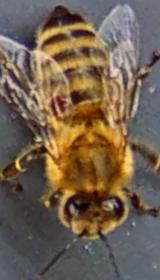varroa_mite: (45, 90, 73, 114)
